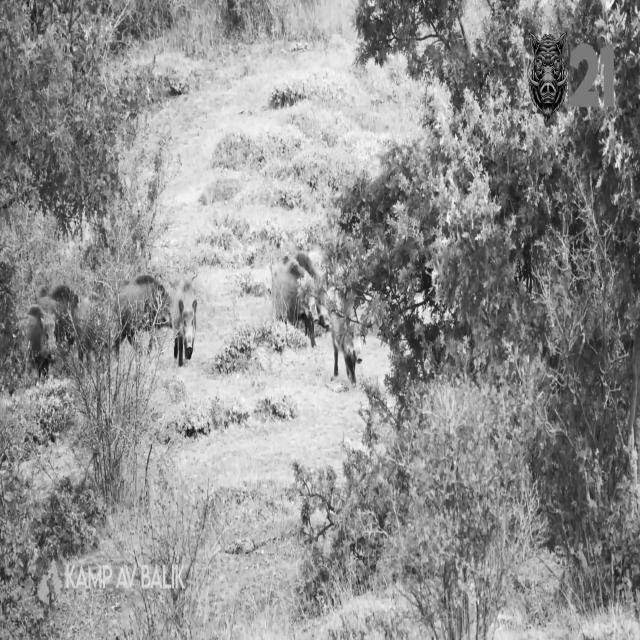boar: (25, 274, 171, 374), (272, 252, 330, 346), (332, 312, 362, 383), (173, 279, 196, 366)
